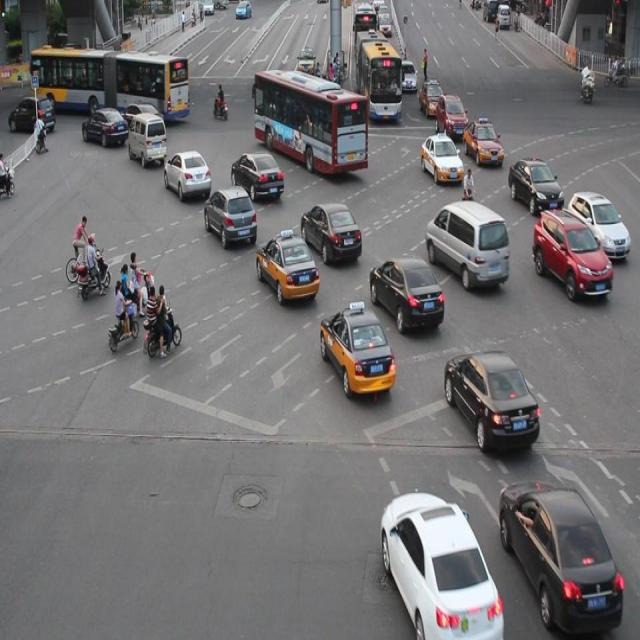car: (497, 480, 621, 632), (379, 490, 503, 640), (442, 348, 540, 452), (530, 207, 610, 300), (318, 306, 394, 392), (368, 255, 443, 332), (566, 189, 629, 259), (256, 232, 318, 300), (300, 202, 360, 264), (202, 185, 257, 249), (507, 156, 563, 216), (230, 150, 284, 201), (163, 149, 211, 201), (420, 132, 462, 184), (82, 106, 129, 148), (462, 120, 502, 167), (121, 100, 164, 137), (434, 93, 467, 138)
truck: (424, 199, 507, 288), (128, 113, 167, 166)
van: (253, 70, 368, 175), (31, 49, 191, 120)
